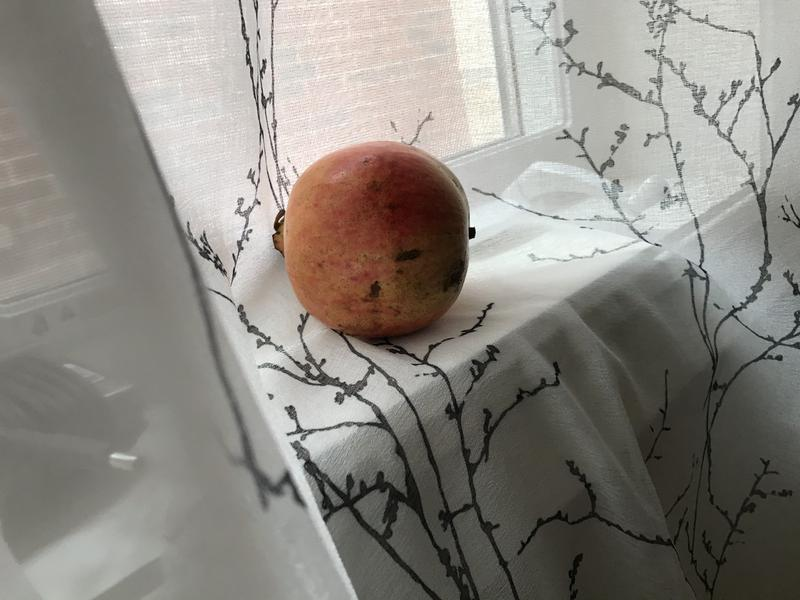pomegranate: (258, 134, 492, 347)
